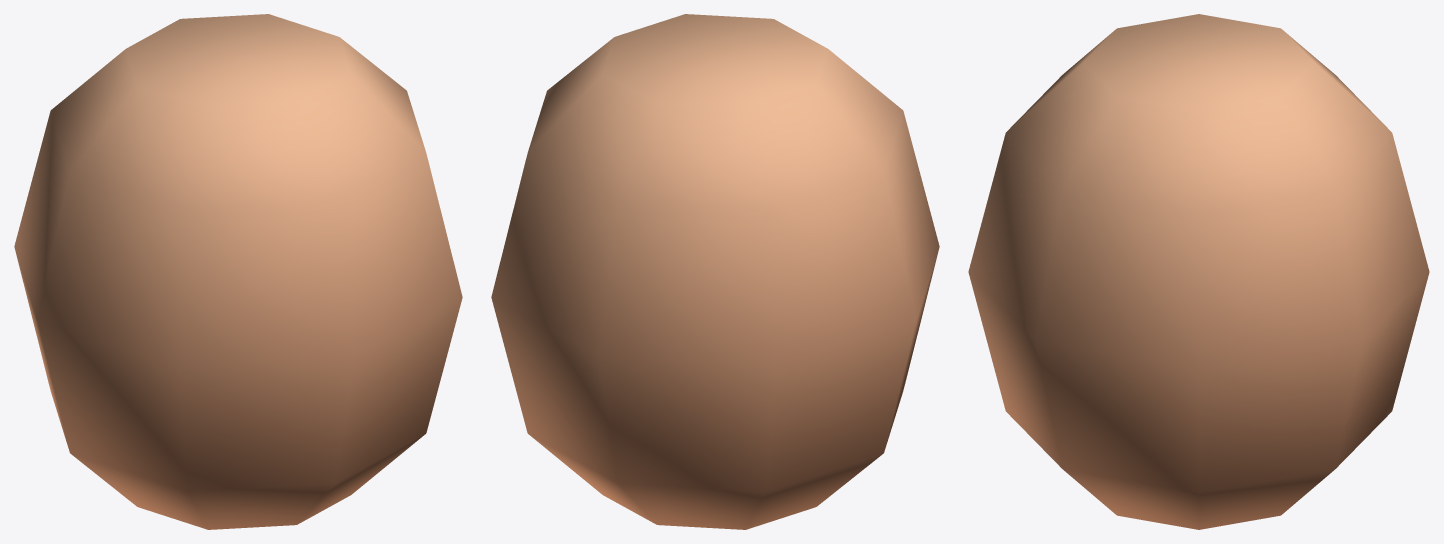
File: coconut.glb
3 views of the same model, side by side, from view 1: azimuth 30°, elevation 25°; view 2: azimuth 150°, elevation 25°; view 3: azimuth 270°, elevation 25° (orthographic).
Visible parts, largest first — view 1: coconut; view 2: coconut; view 3: coconut.
Boxes of the visible parts, x1,y1,x2,y2 form: coconut: [14, 14, 462, 529]; coconut: [491, 14, 939, 529]; coconut: [968, 14, 1429, 529].
Bounding box in the file's own units: 0.2484 × 0.2484 × 0.2484.
1 material, 1 textured.
